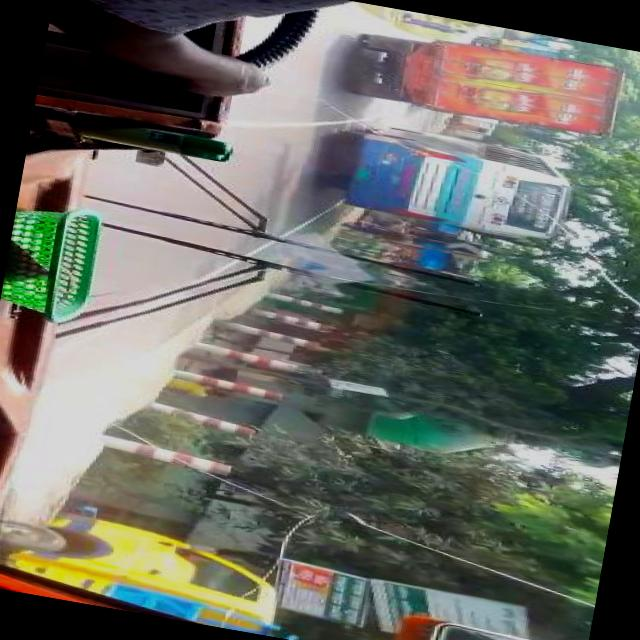bus: (342, 121, 572, 247)
truck: (0, 489, 281, 632), (357, 29, 624, 141), (482, 37, 558, 59)
